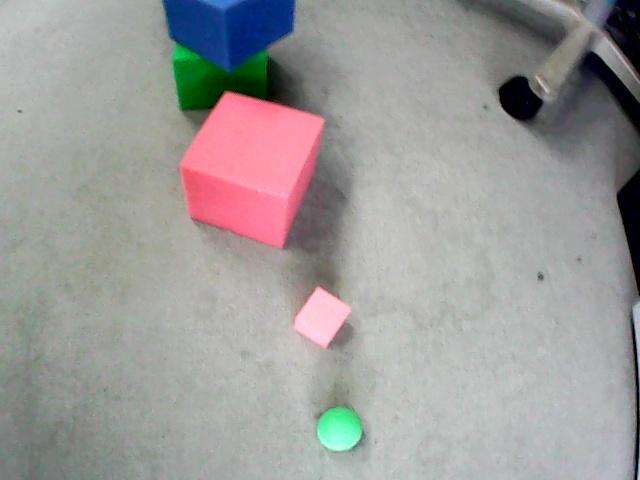blue_block: (163, 0, 294, 71)
red_block: (180, 92, 324, 247), (294, 287, 350, 348)
